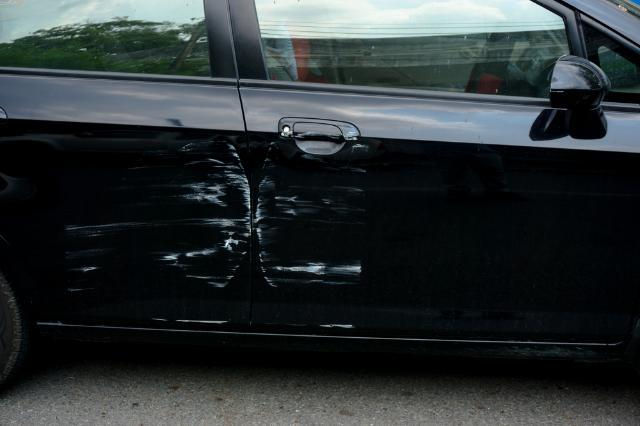scratch: (64, 138, 252, 294), (252, 130, 374, 331), (142, 317, 233, 328)
